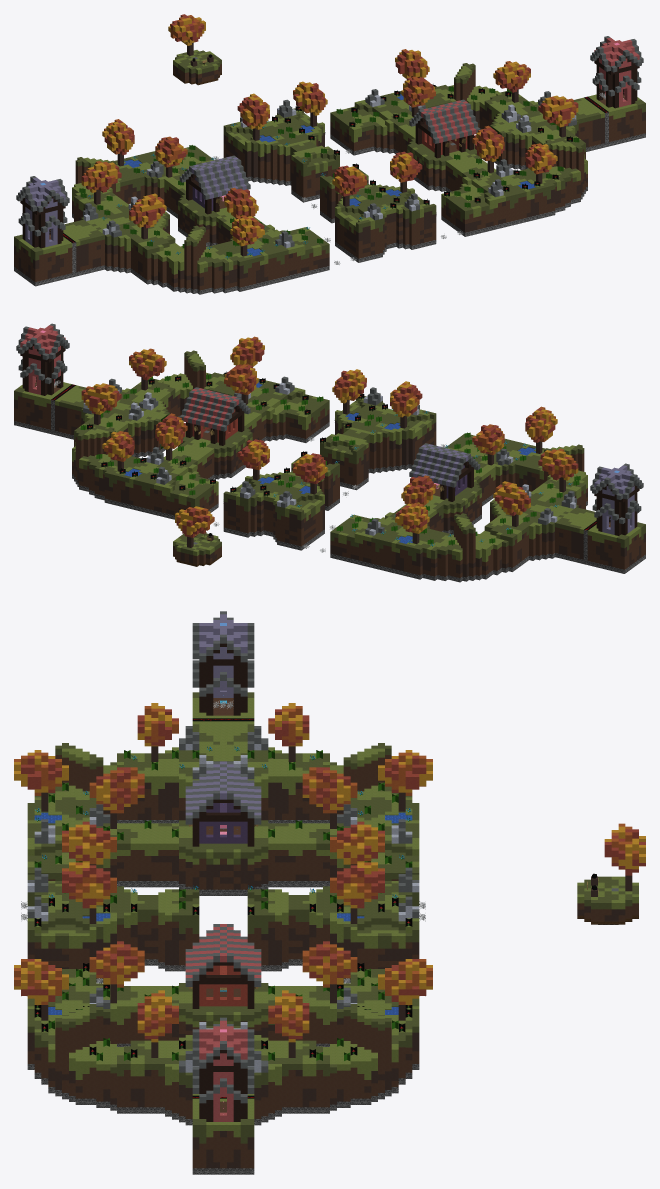
File: minecraft.obj
3 views of the same model, one above another, from view 1: azimuth 30°, elevation 25°; view 2: azimuth 150°, elevation 25°; view 3: azimuth 270°, elevation 25° (orthographic). The views are drawn at different scales.
Bounding box in the file's own units: 149 × 21 × 92.
